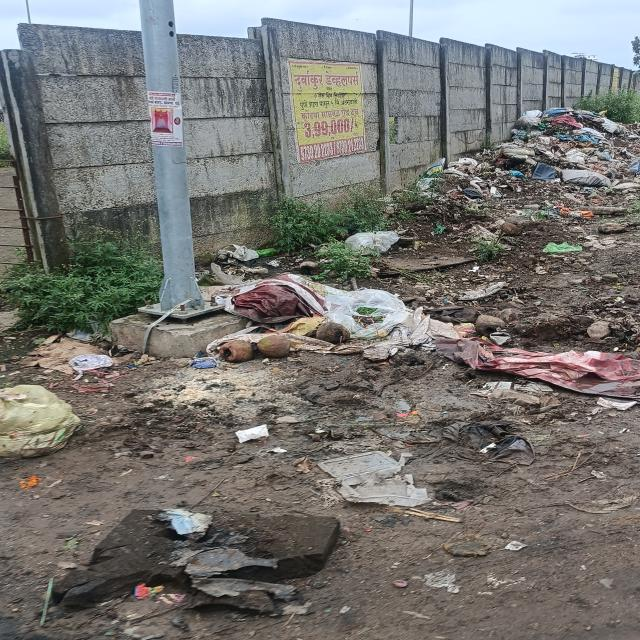garbage: (222, 227, 640, 425), (51, 484, 350, 637), (385, 97, 637, 225), (3, 307, 102, 454)
